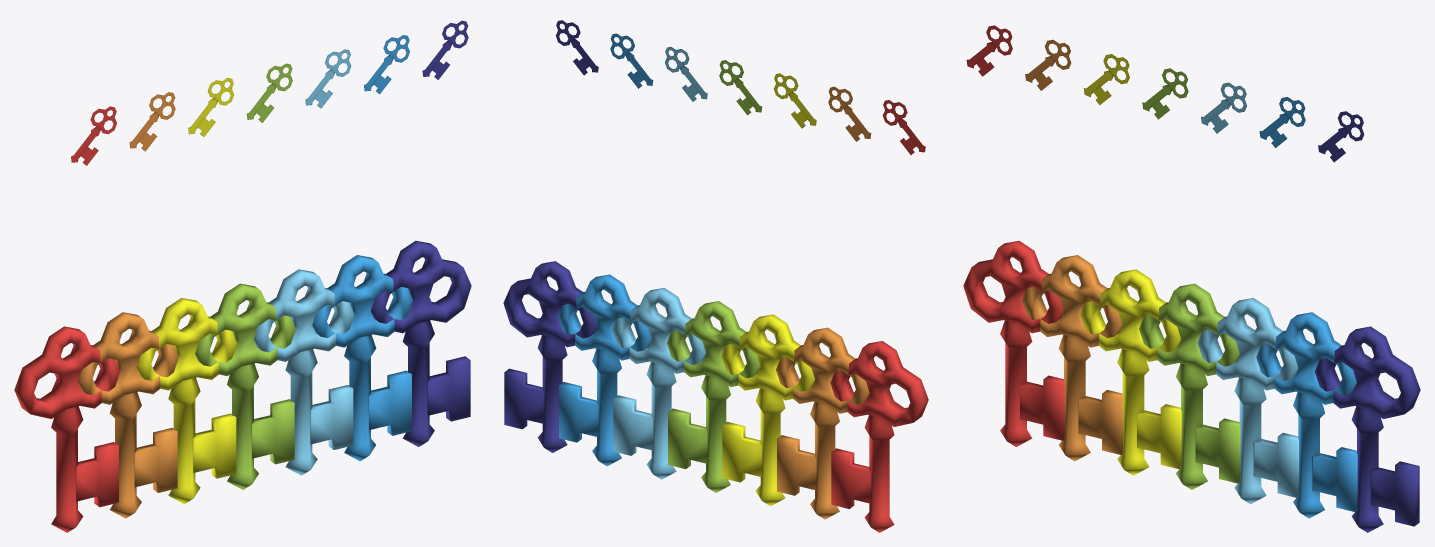
File: keys.FBX
3 views of the same model, side by side, from view 1: azimuth 30°, elevation 25°; view 2: azimuth 150°, elevation 25°; view 3: azimuth 330°, elevation 25° (orthographic). The views are drawn at different scales.
Parts seen in each view (by area): view 1: keyA, keyG, keyC, keyE, keyD, keyF, keyB, keyIconG (×2), keyIconA, keyIconE, keyIconB, keyIconC (+1 smaller); view 2: keyA, keyG, keyC, keyE, keyD, keyF, keyB, keyIconG (×2), keyIconF, keyIconB, keyIconA, keyIconC (+1 smaller); view 3: keyG, keyA, keyD, keyE, keyC, keyB, keyF, keyIconG (×2), keyIconF, keyIconA, keyIconE, keyIconB (+1 smaller).
Boxes of the visible parts, box(x1,y1,x2,y2) form: keyA: box(14, 326, 119, 532); keyG: box(371, 240, 471, 446); keyC: box(136, 298, 237, 504); keyE: box(253, 269, 354, 475); keyD: box(195, 283, 295, 489); keyF: box(312, 255, 412, 461); keyB: box(78, 312, 178, 518); keyIconG (×2): box(246, 20, 468, 122); keyIconA: box(71, 106, 116, 165); keyIconE: box(305, 49, 351, 108); keyIconB: box(129, 92, 175, 151); keyIconC: box(188, 78, 234, 136); keyA: box(830, 341, 928, 532); keyG: box(503, 261, 596, 452); keyC: box(721, 314, 814, 506); keyE: box(612, 287, 705, 479); keyD: box(667, 301, 760, 492); keyF: box(558, 274, 651, 466); keyB: box(776, 327, 869, 519); keyIconG (×2): box(556, 20, 762, 115); keyIconF: box(610, 33, 653, 88); keyIconB: box(828, 86, 871, 141); keyIconA: box(882, 100, 925, 154); keyIconC: box(774, 73, 816, 128); keyG: box(1315, 326, 1420, 532); keyA: box(963, 240, 1064, 446); keyD: box(1139, 283, 1240, 489); keyE: box(1197, 298, 1298, 504); keyC: box(1080, 269, 1181, 475); keyB: box(1022, 255, 1122, 461); keyF: box(1256, 312, 1357, 518); keyIconG (×2): box(1142, 68, 1364, 162); keyIconF: box(1259, 97, 1305, 147); keyIconA: box(966, 25, 1012, 76); keyIconE: box(1201, 82, 1246, 133); keyIconB: box(1025, 39, 1071, 90).
Size of the model in its own units: 4.61 by 4.36 by 0.6381.
